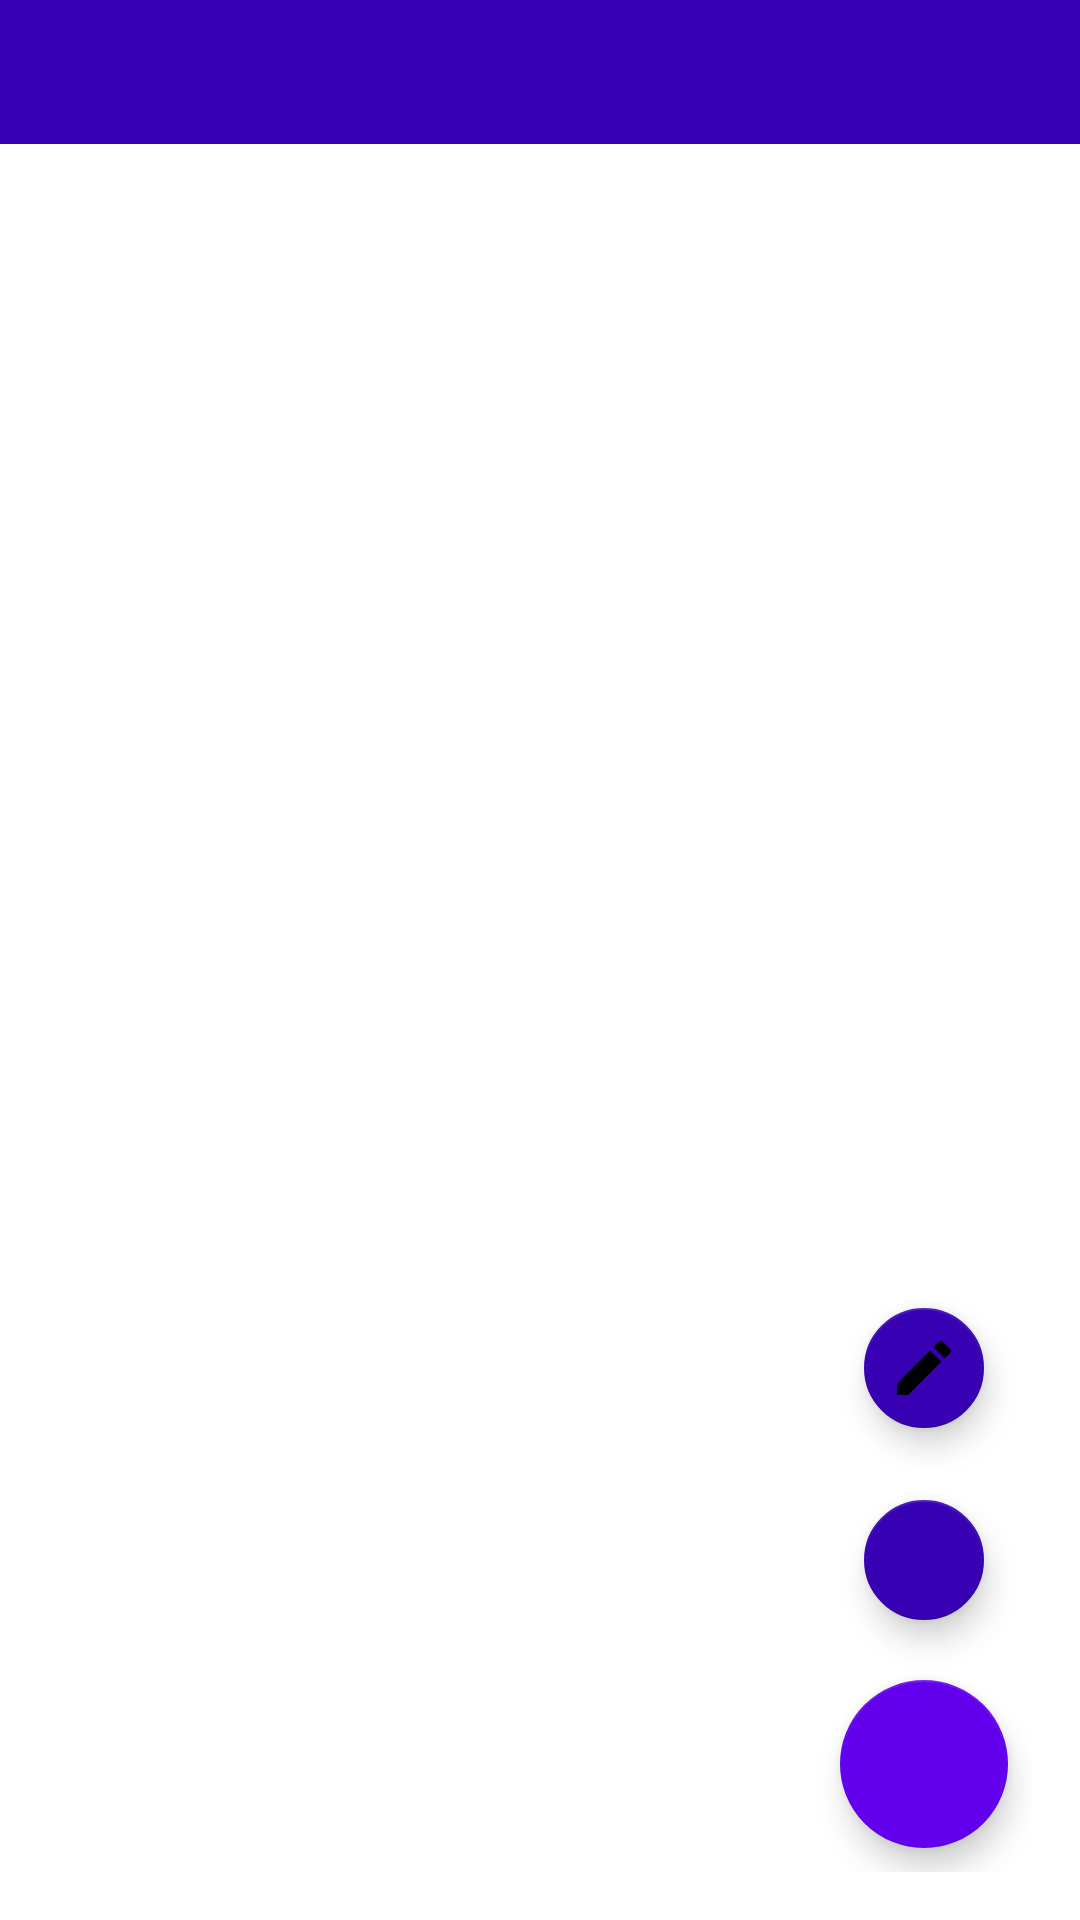

Point at icon controls on the screen. Image size 1080×1920, points as [x,y].
edit: [925,1373]
